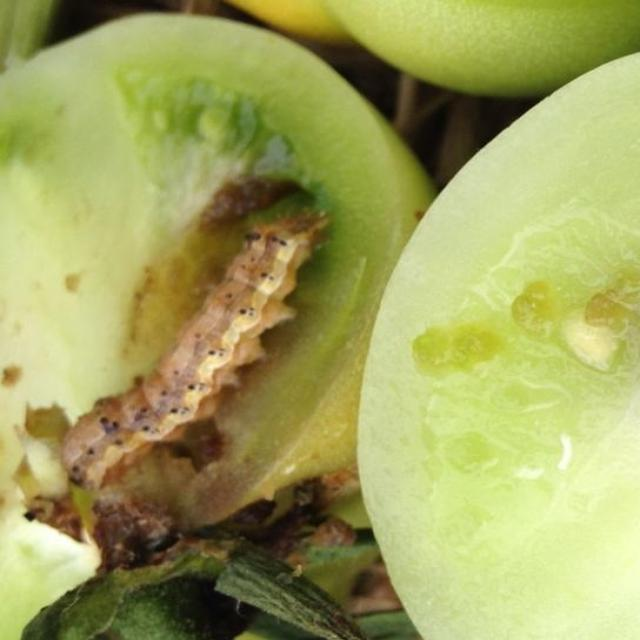Corn-earworm: (57, 208, 327, 527)
